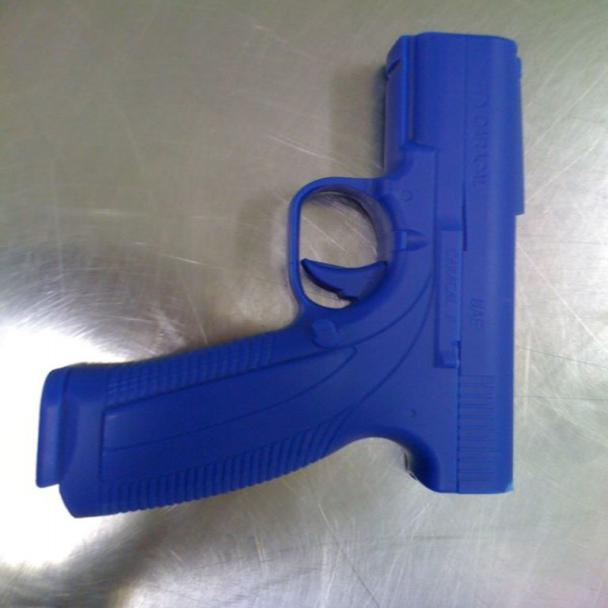Gun: (48, 6, 551, 524)
